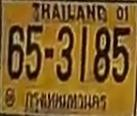1: (81, 26, 86, 82)
3: (55, 25, 75, 82)
5: (112, 26, 131, 84), (26, 25, 45, 79)
6: (7, 25, 24, 79)
8: (93, 26, 109, 82)
BKK: (25, 88, 112, 115)
